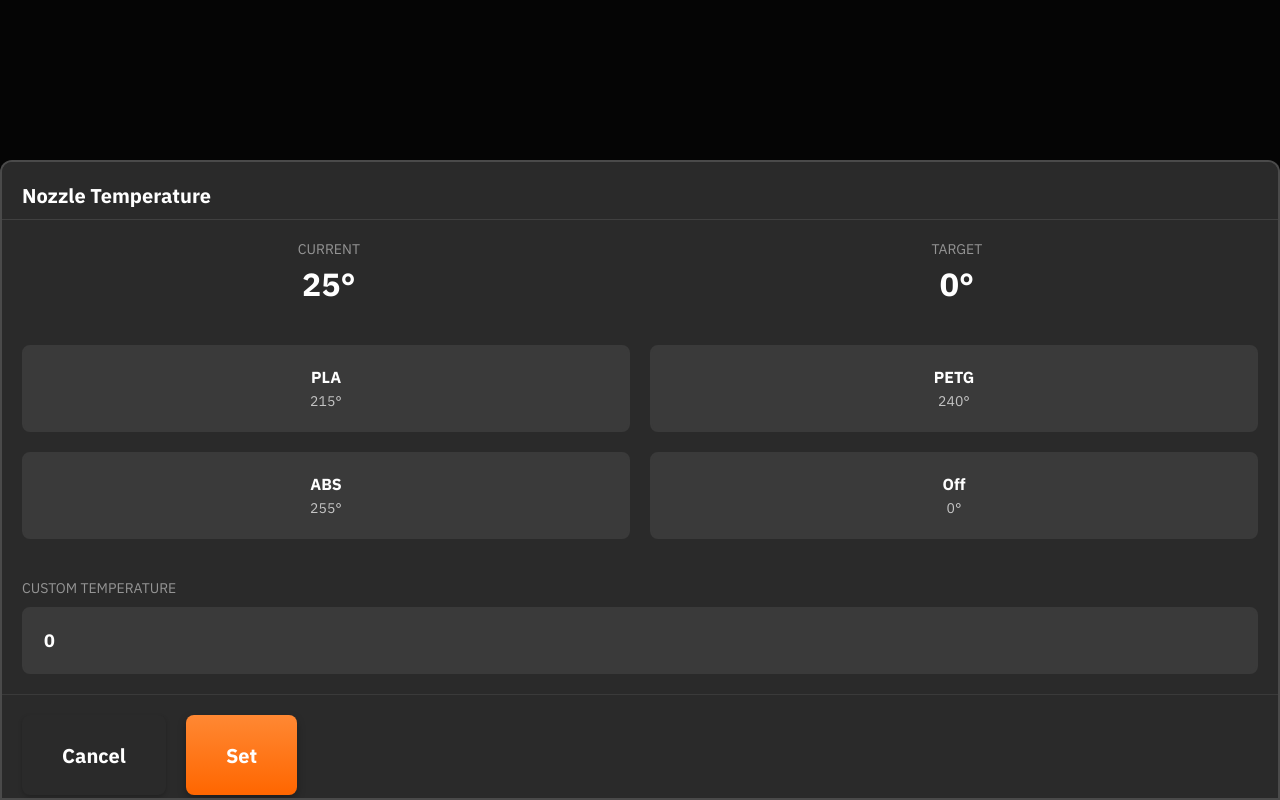
it: TemperatureControl › shows loading state while setting temperature
Click the button "PLA 215°" at (326, 388), box [22,345,630,432]
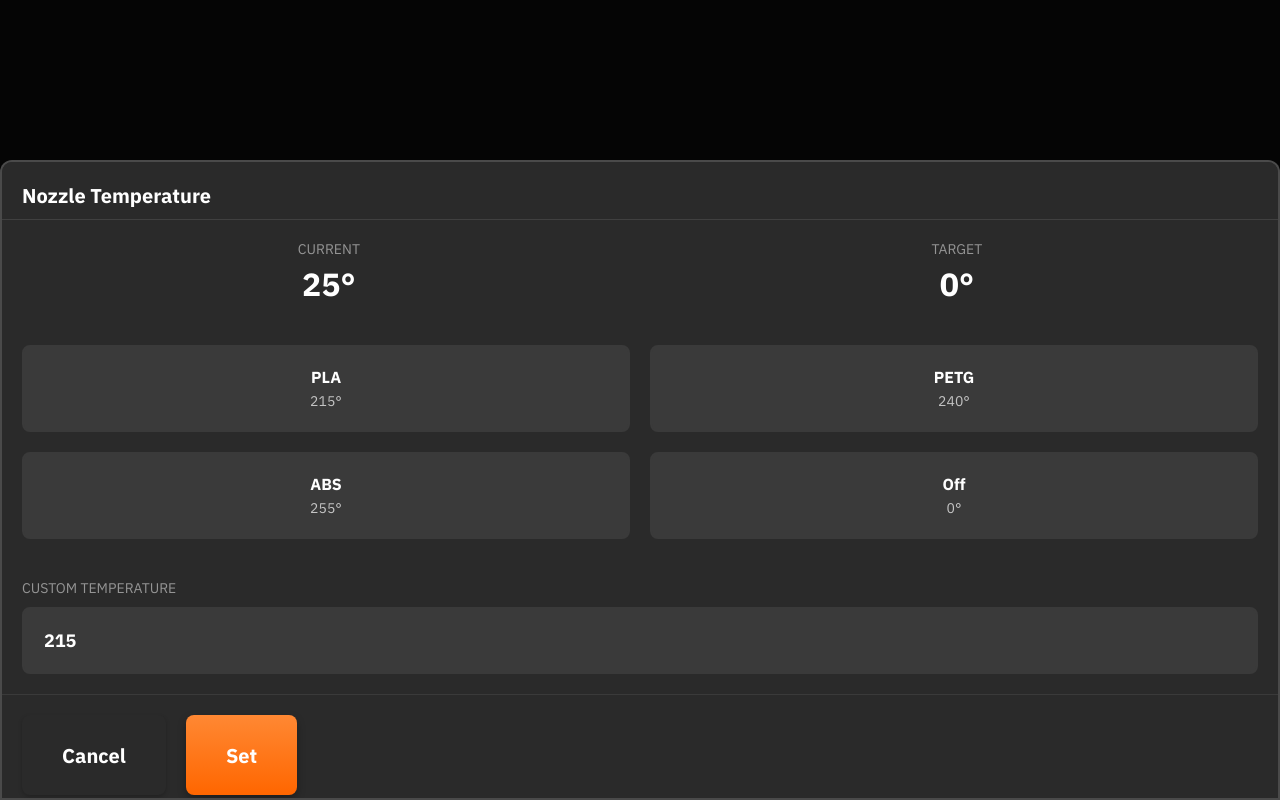
Click the button "Set" at (242, 755), box [186,715,297,795]
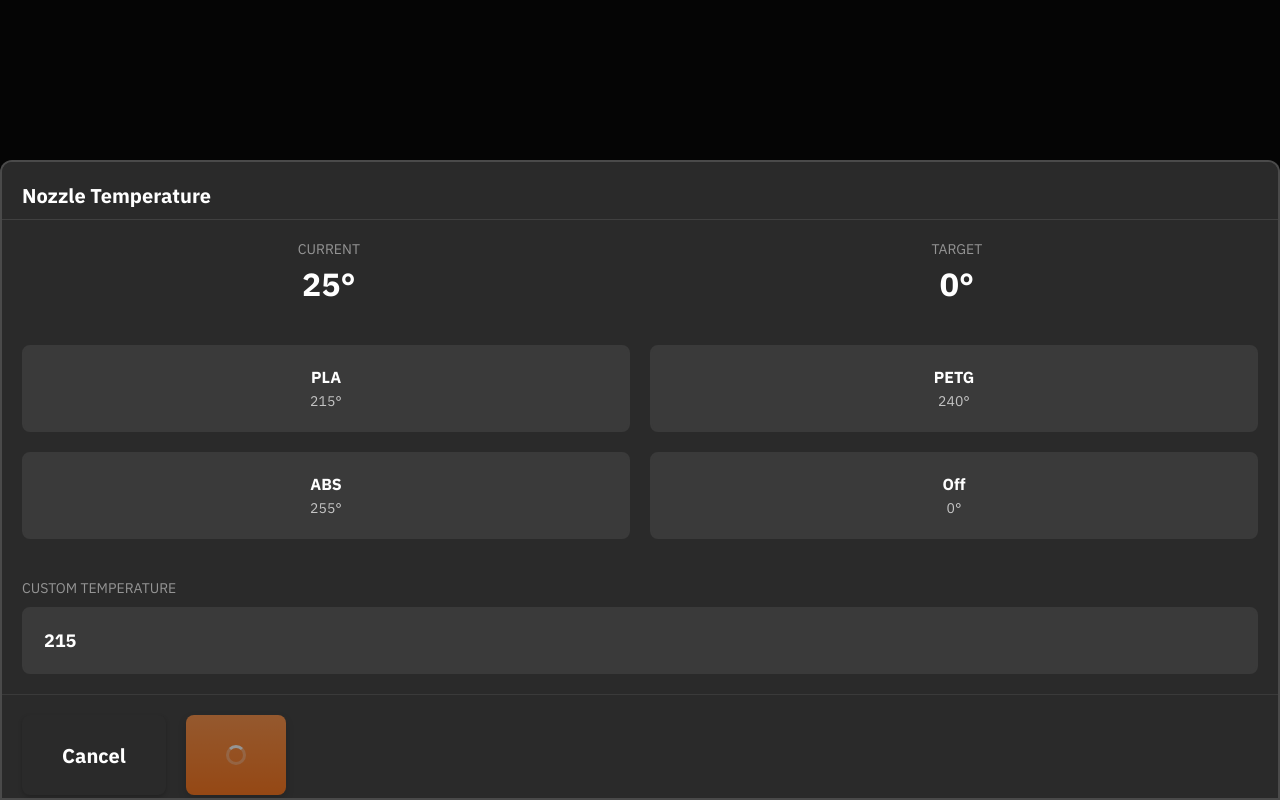
Result: the 6th button is disabled at [186,715,286,795]
